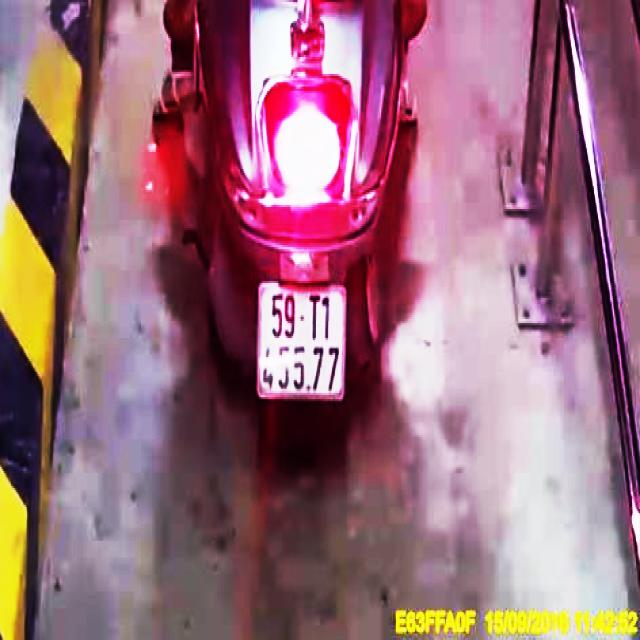license_plate: (259, 283, 348, 400)
